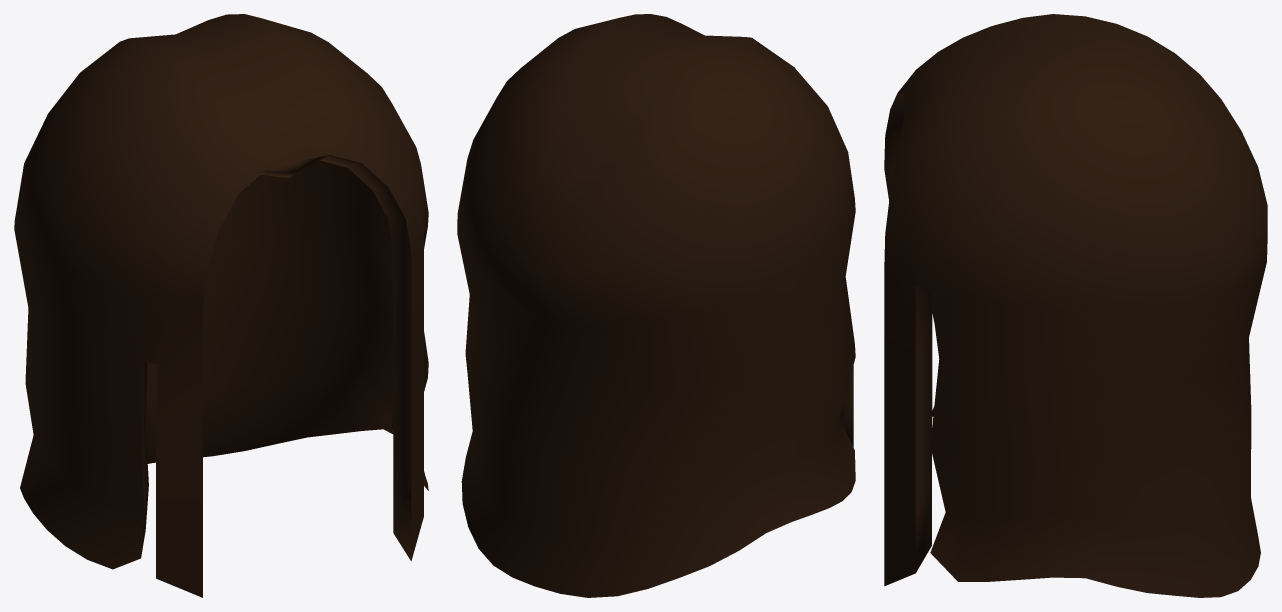
The model's file is Longhair.fbx.
3 renders of one model, left to right at view 1: azimuth 30°, elevation 25°; view 2: azimuth 150°, elevation 25°; view 3: azimuth 270°, elevation 25°, orthographic. The views are drawn at different scales.
Parts seen in each view (by area): view 1: Longhair; view 2: Longhair; view 3: Longhair.
Boxes of the visible parts, x1,y1,x2,y2 form: Longhair: (14, 14, 428, 597); Longhair: (457, 14, 855, 597); Longhair: (884, 14, 1267, 597).
Bounding box in the file's own units: 40 × 54.19 × 36.83.
